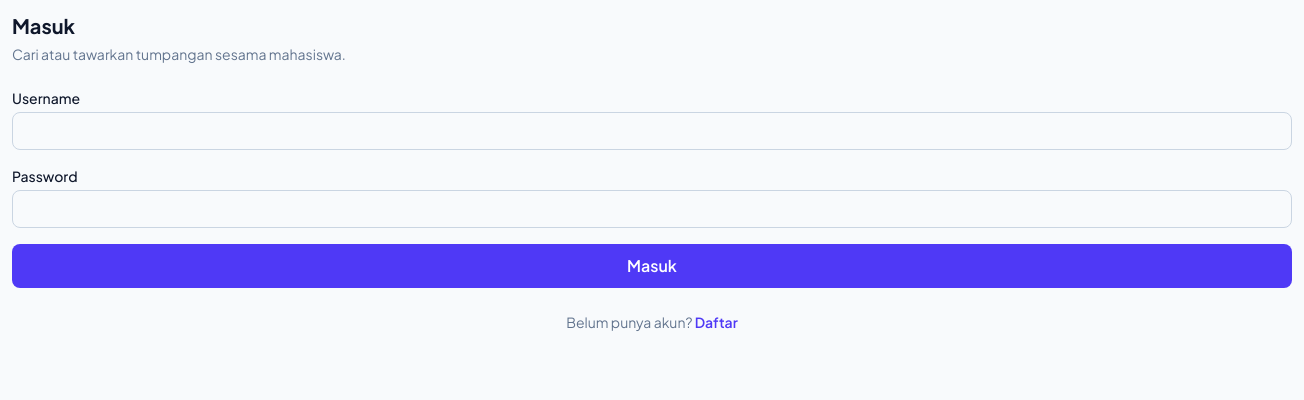
Test case: LoginPage › login gagal menampilkan pesan dan tombol aktif kembali
Type "leona" into the field with id "username". click: (652, 131)
box: [12,112,1292,150]
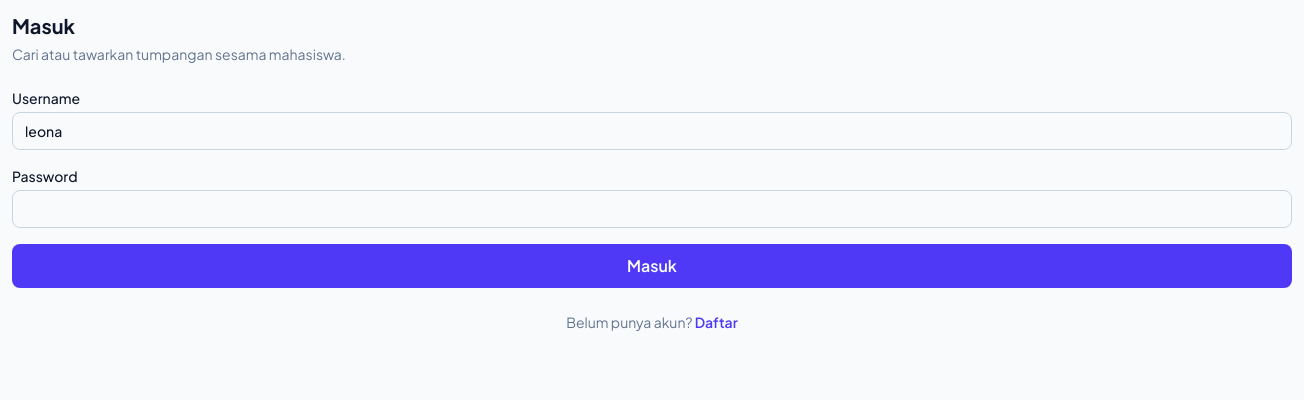
Type "secret1" into the password field labelled "Password". click: (652, 209)
box: [12,190,1292,228]
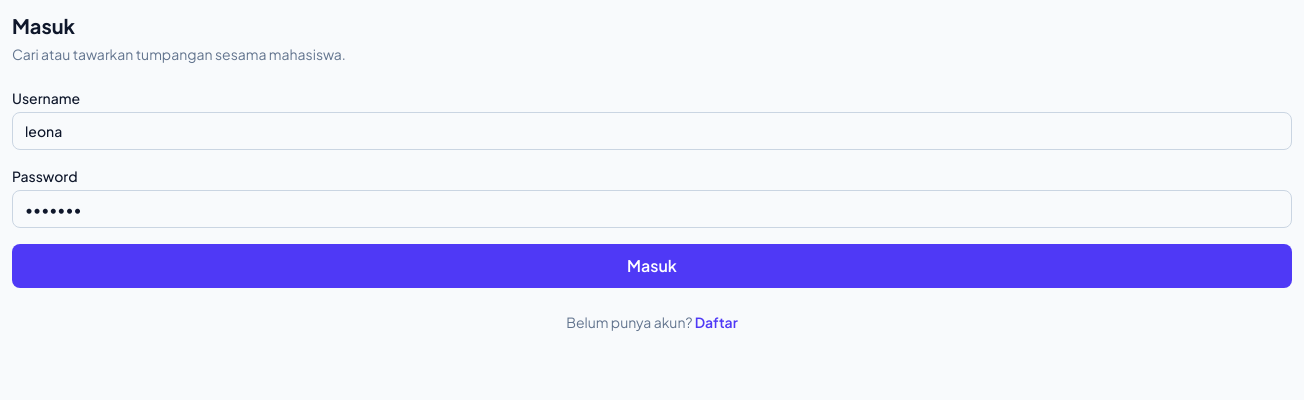
Submit the form, box [12,88,1292,288]
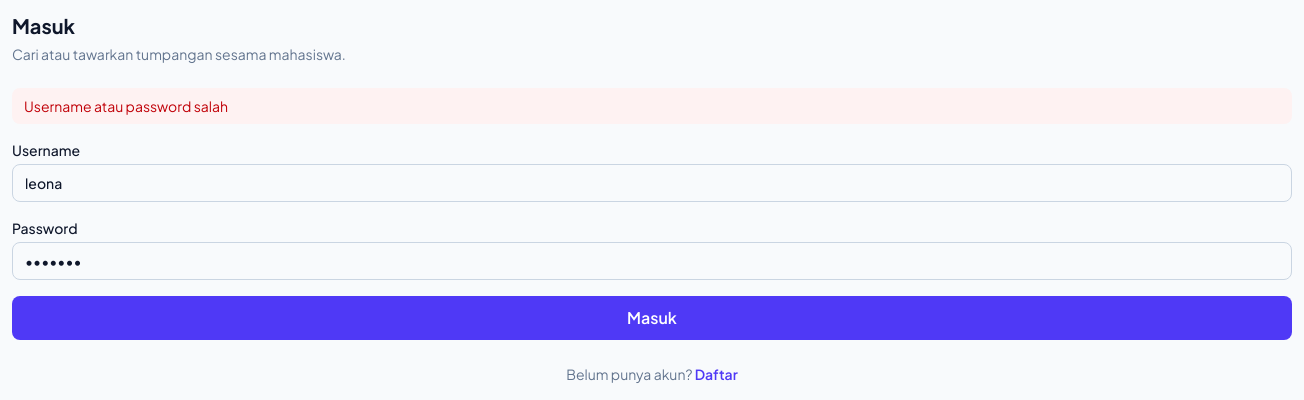
Expected: the button with id "btn-submit" is enabled, [12,296,1292,340]
Now the message "Username atau password salah" is shown, box [12,88,1292,124]
